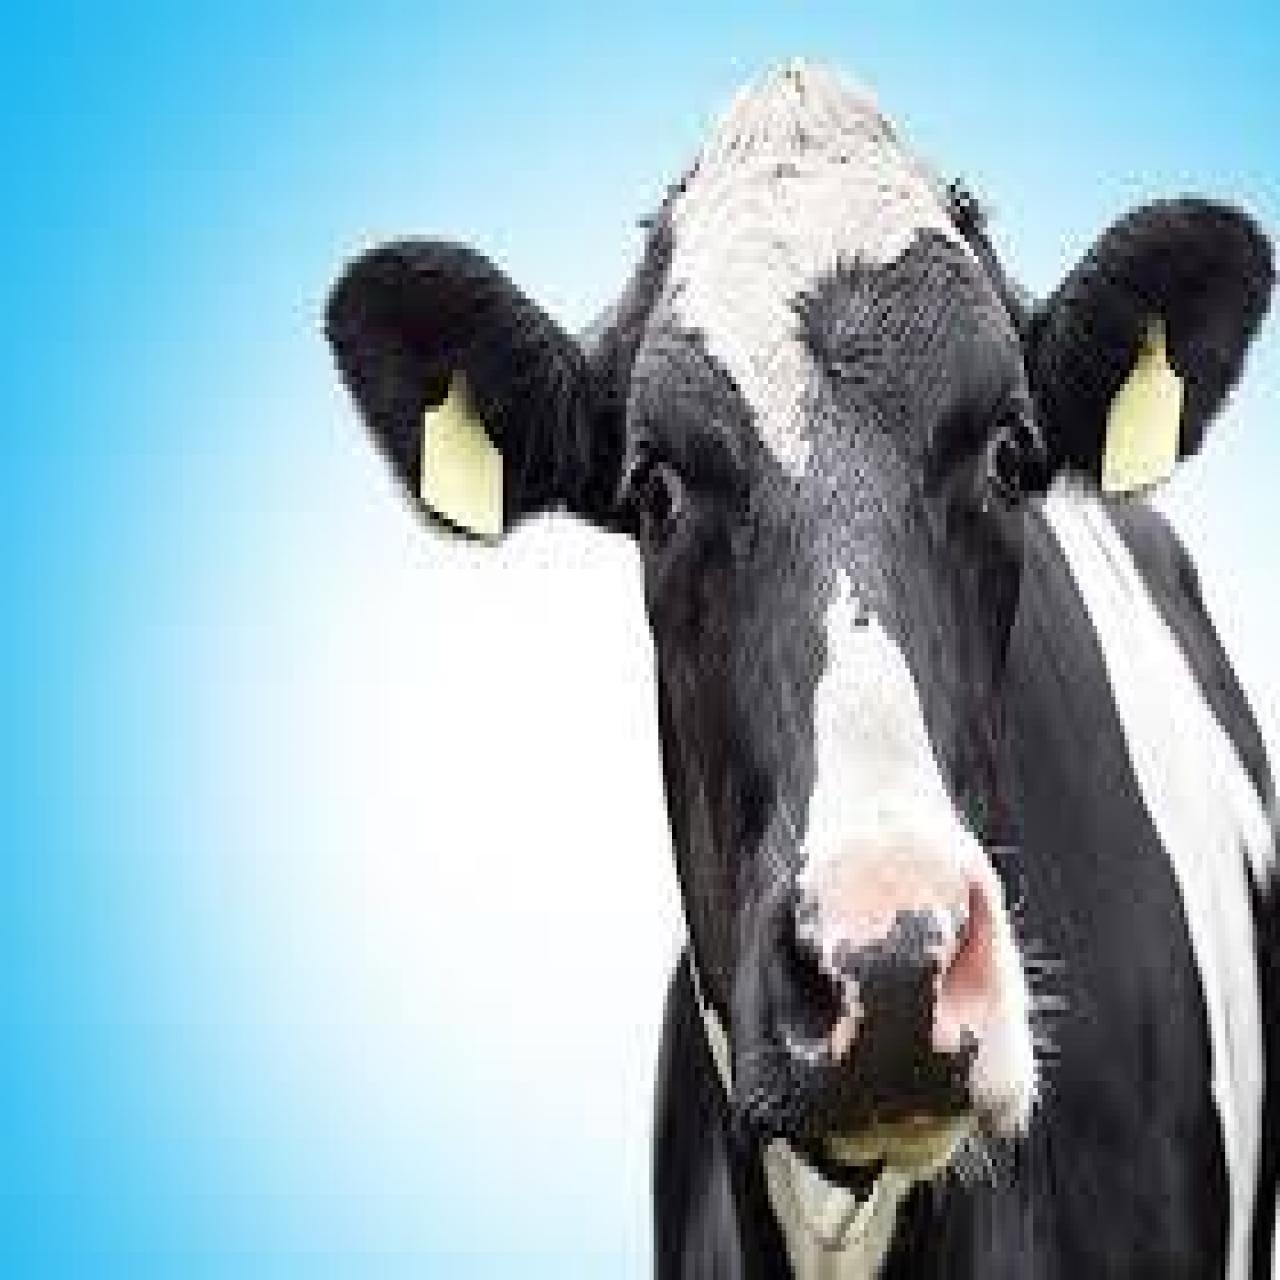cow: (329, 86, 1280, 1280)
